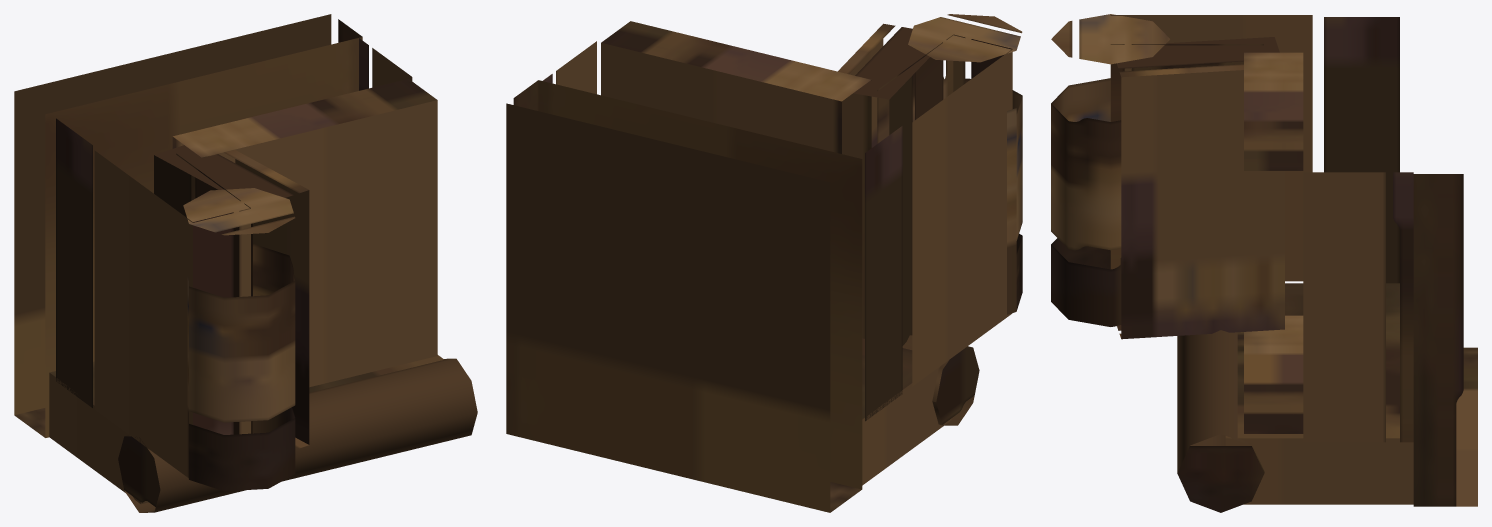
File: section-3.obj
3 views of the same model, side by side, from view 1: azimuth 30°, elevation 25°; view 2: azimuth 150°, elevation 25°; view 3: azimuth 270°, elevation 25° (orthographic). The views are drawn at different scales.
Size of the model in its own units: 0.83 by 0.815 by 0.93.
